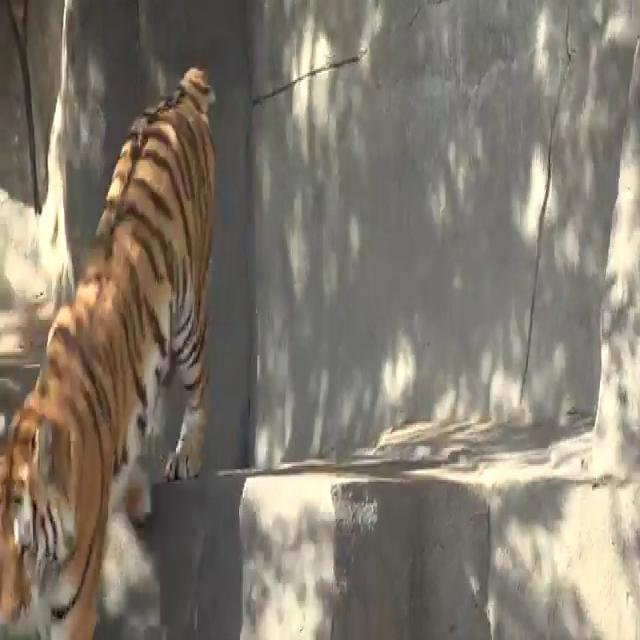tiger: (0, 62, 215, 640)
